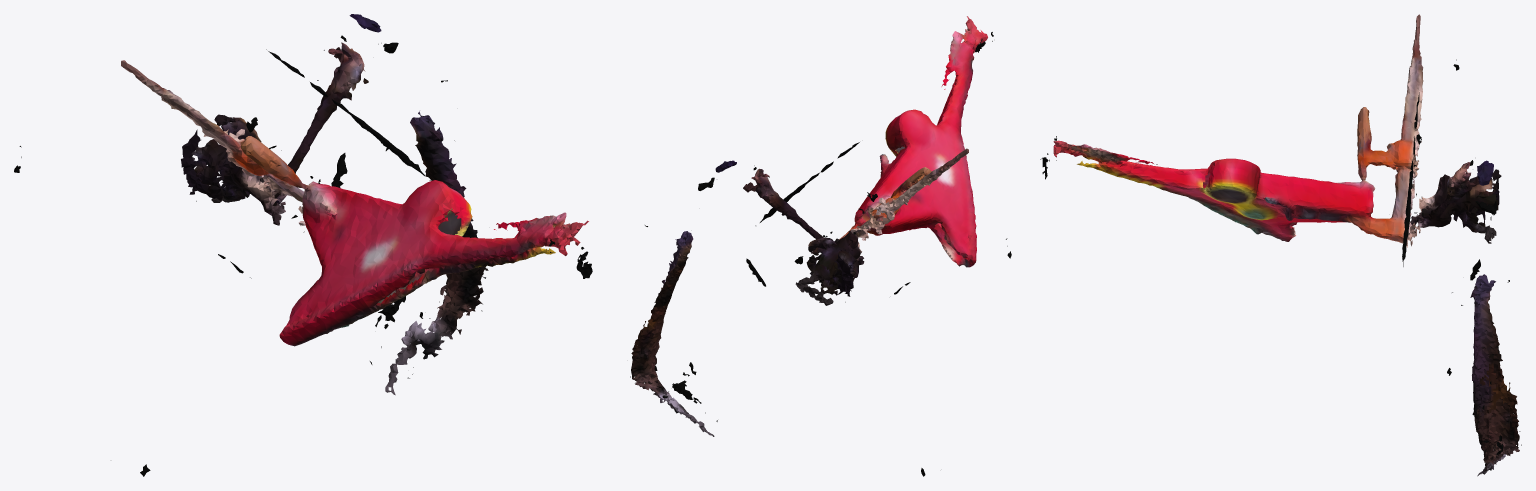
File: guitar.obj
The picture shows the model from 3 angles, left to right: view 1: azimuth 30°, elevation 25°; view 2: azimuth 150°, elevation 25°; view 3: azimuth 270°, elevation 25°; orthographic projection. The views are drawn at different scales.
Bounding box in the file's own units: 0.745 × 0.6439 × 0.8089.
Materials: 1 (1 with a texture image).
